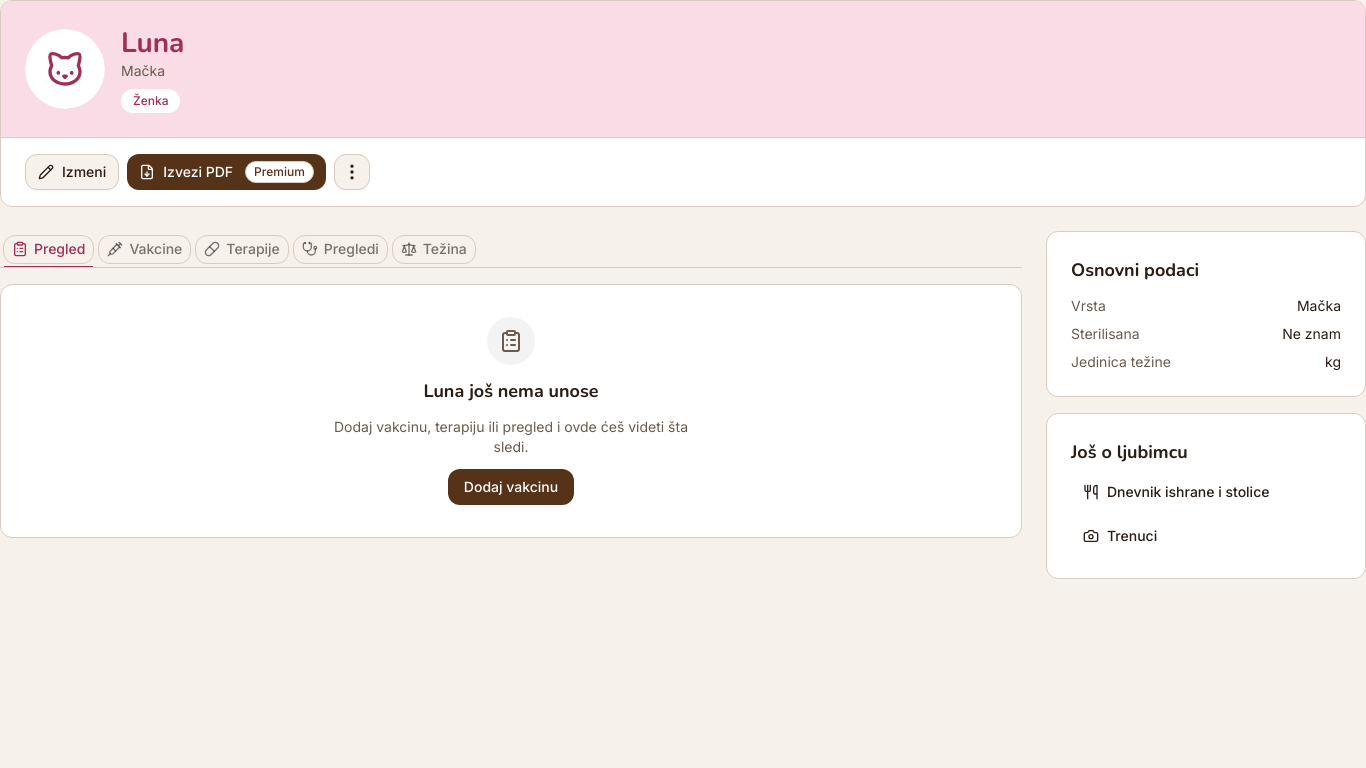
Test case: EP-06 — Premesti u Uspomene › opens the dialog from the DropdownMenu with the mockup copy
The image size is (1366, 768).
What coordinates should you click on to do the following:
click the button named "Još opcija"
I would click on:
 (352, 172)
Its box is [334,154,370,190].
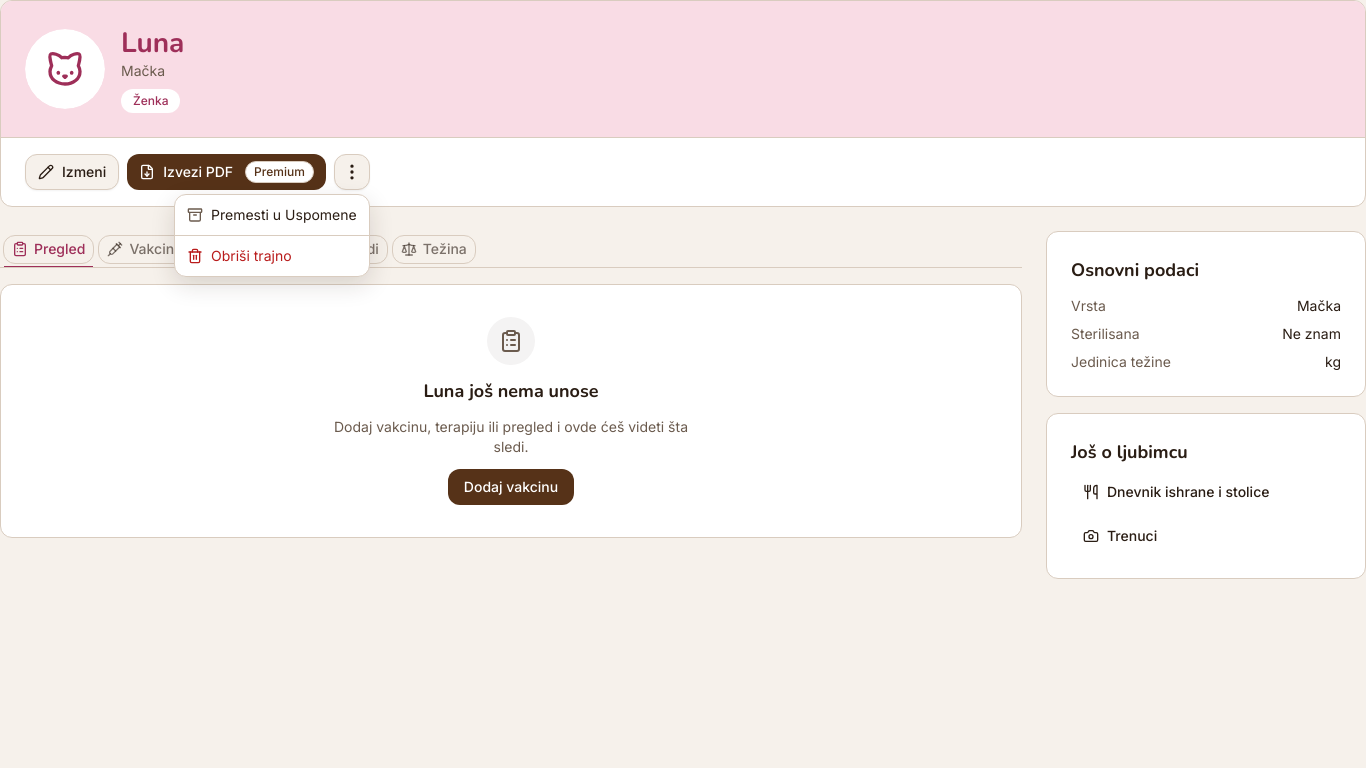
What coordinates should you click on to do the following:
click the menu item "Premesti u Uspomene"
I would click on:
 (272, 214)
Its box is [187,206,357,223].
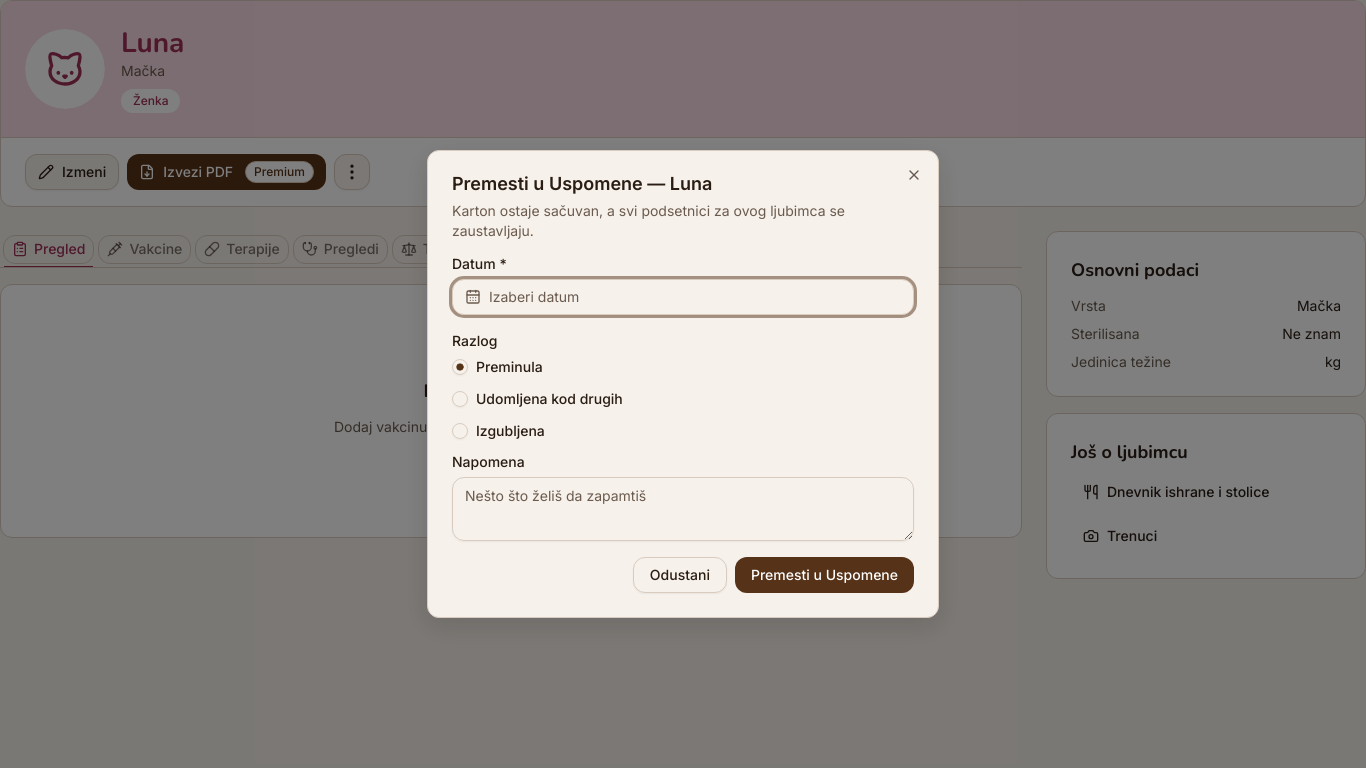
expect the dialog "Premesti u Uspomene — Luna" shows "Karton ostaje sačuvan, a svi podsetnici za ovog ljubimca se zaustavljaju.": met, box [452,202,845,239]
expect the element "Razlog" is shown: met, box [452,332,623,439]
expect the radio button named "Preminula" next to "Preminula" is checked: met, box [452,359,468,375]
